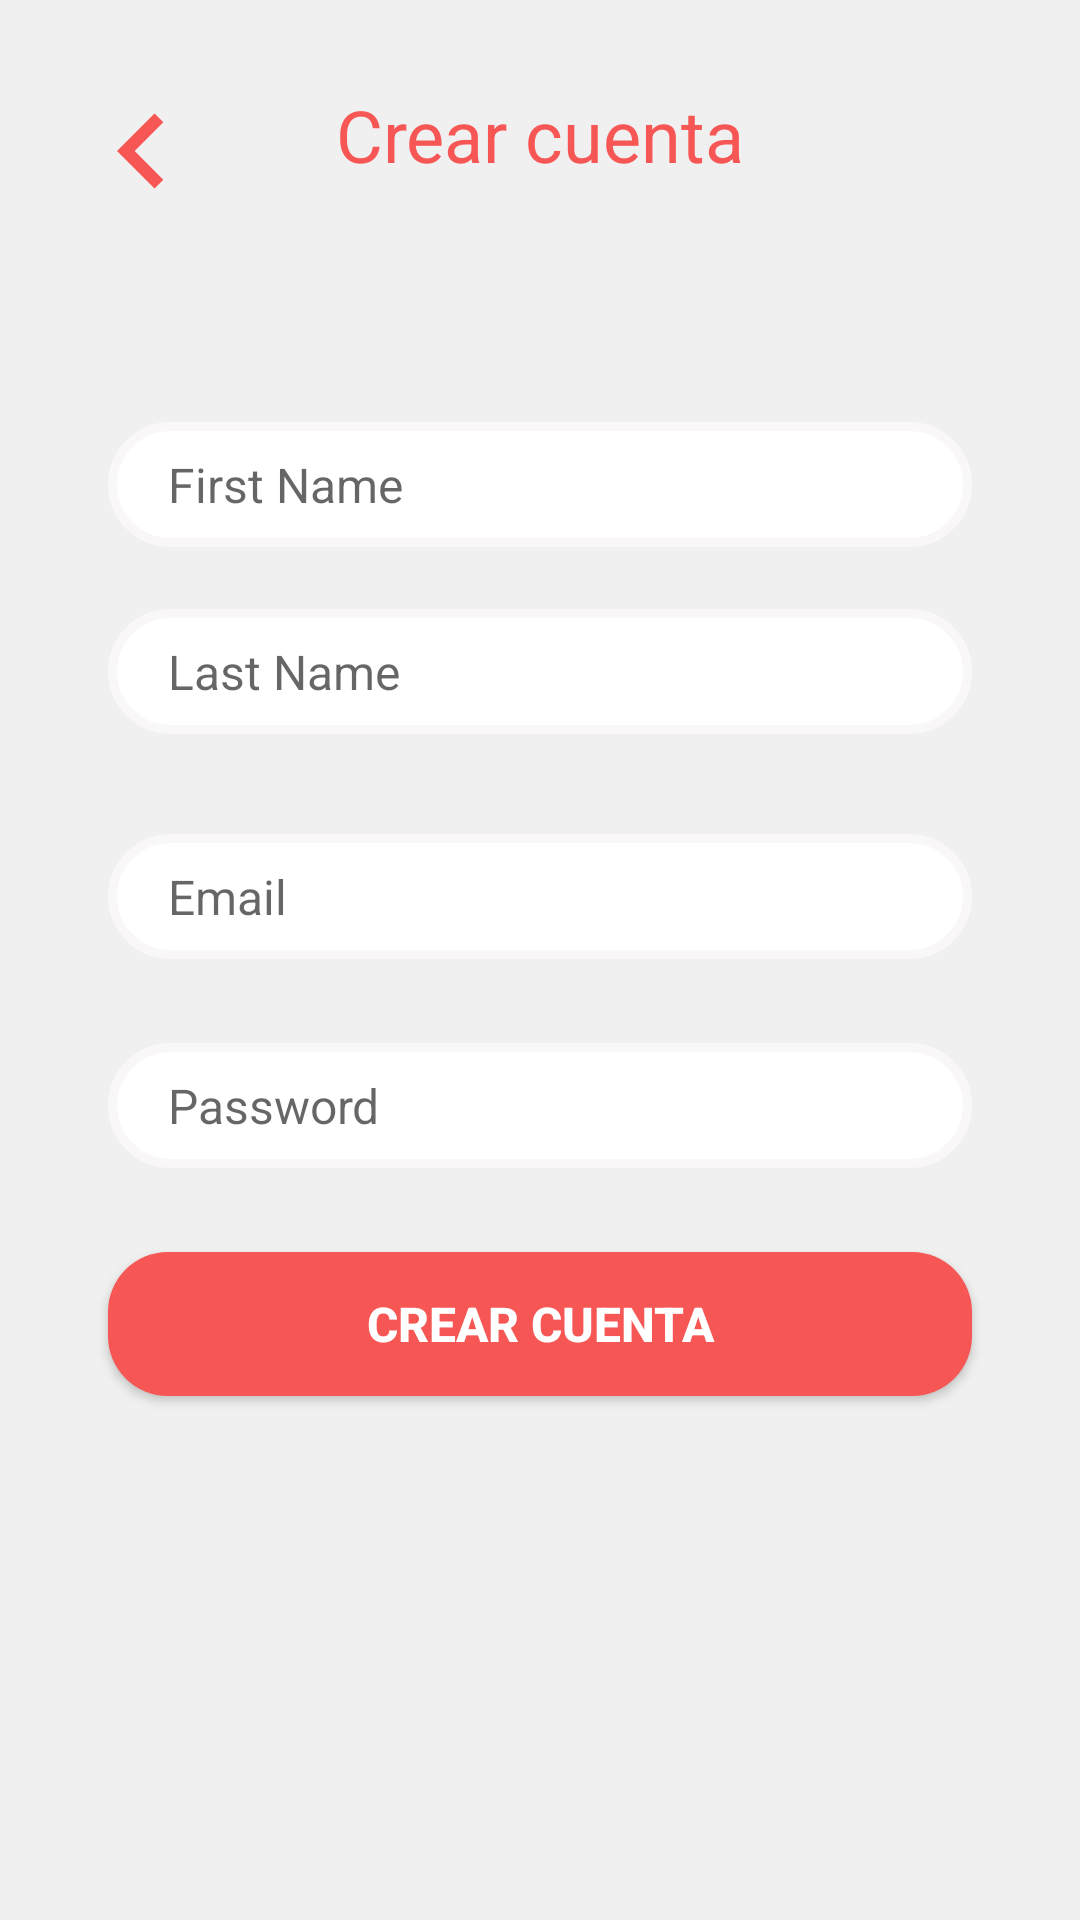

Icons on this 1080px x 1920px Android screen, each with its box as [x1, y1, x2, y2]:
keyboard arrow left: [117, 113, 163, 189]
